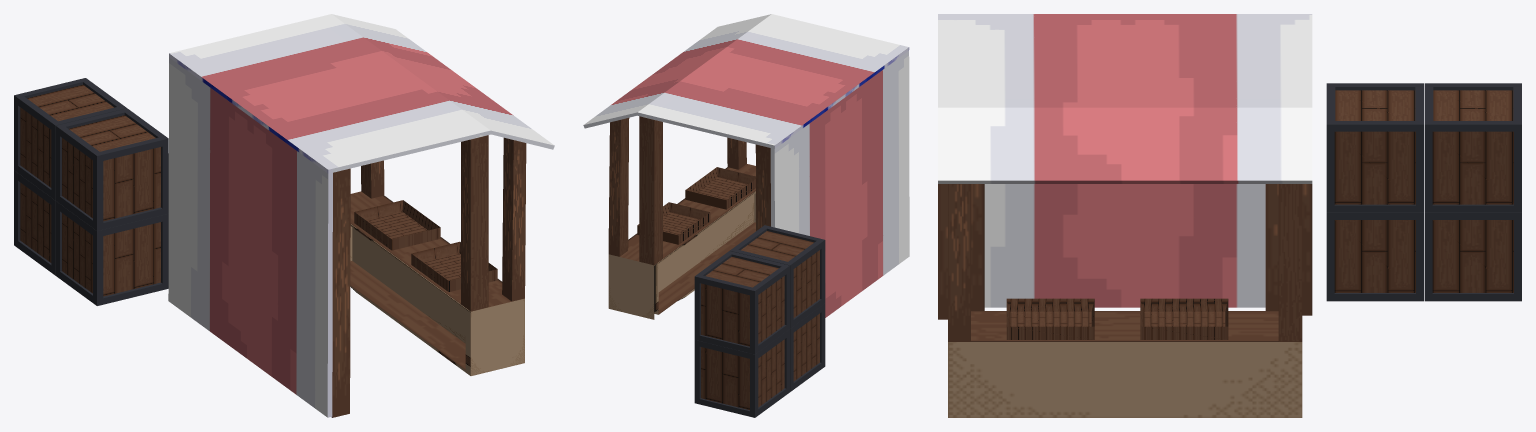
The model's file is Shop3.fbx.
3 views of the same model, side by side, from view 1: azimuth 30°, elevation 25°; view 2: azimuth 150°, elevation 25°; view 3: azimuth 270°, elevation 25° (orthographic). The views are drawn at different scales.
Parts seen in each view (by area): view 1: BOX7.001; view 2: BOX7.001; view 3: BOX7.001.
Part boxes in pixels (box(x1,y1,x2,y2)): BOX7.001: box(14, 14, 554, 417); BOX7.001: box(583, 14, 909, 417); BOX7.001: box(938, 14, 1521, 417).
Size of the model in its own units: 114 by 93.12 by 168.
11 materials, 11 textured.
